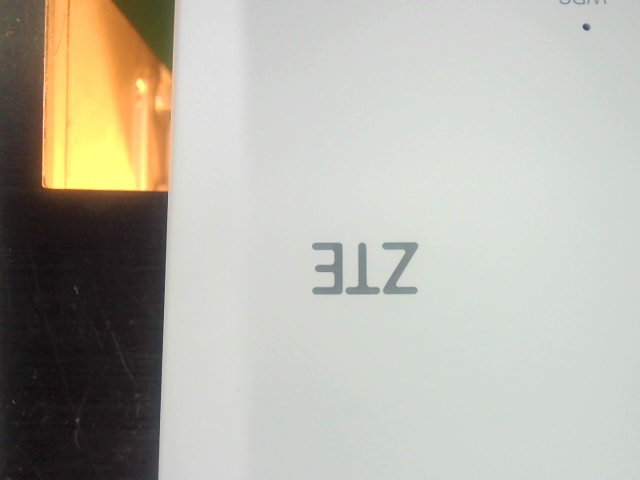AO_ZTESmall: (302, 231, 430, 304)
